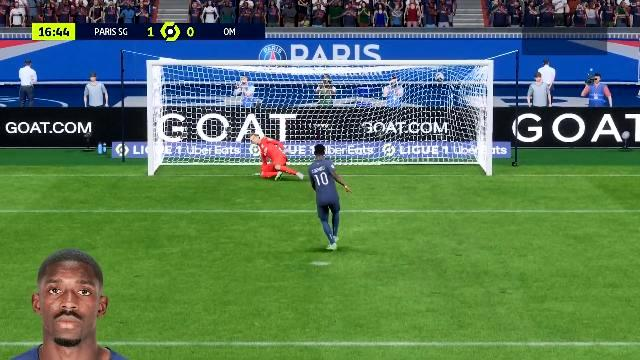bottom-left: (160, 126, 262, 178)
bottom-right: (369, 127, 479, 178)
center-down: (264, 127, 368, 179)
center-up: (264, 72, 368, 127)
football: (432, 72, 446, 84)
goalkeeper: (251, 127, 311, 181)
player: (306, 144, 354, 253)
top-left: (160, 70, 262, 126)
top-right: (369, 70, 479, 126)
